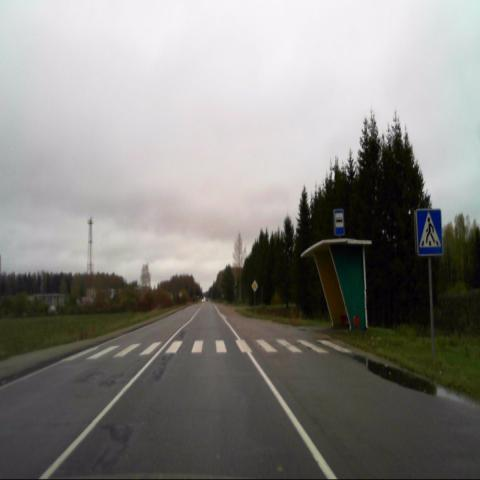2_1: (251, 279, 258, 292)
5_16: (334, 209, 344, 236)
5_19_1: (416, 208, 443, 257)
